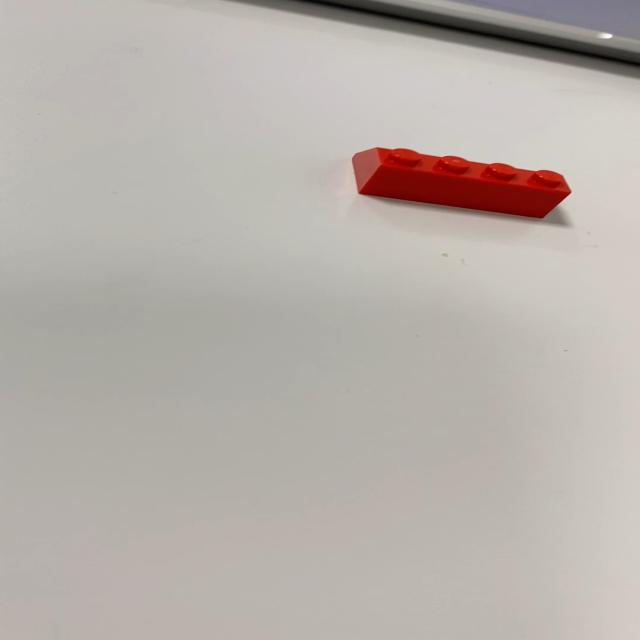P4x2x1: (350, 145, 572, 219)
